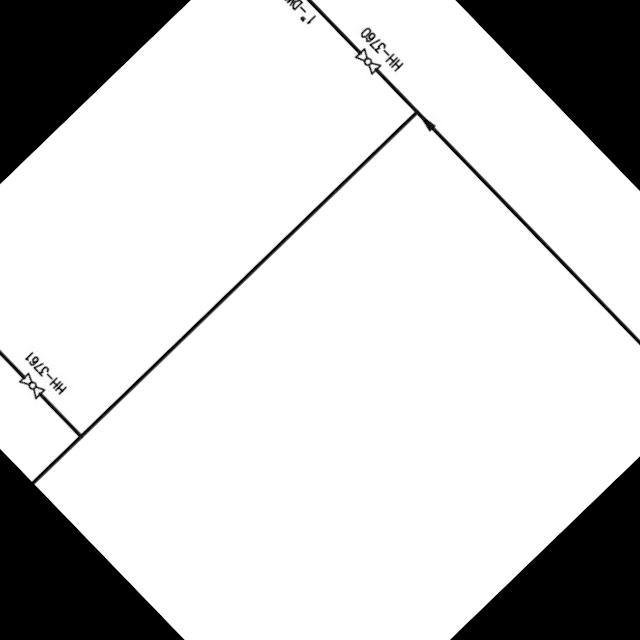BV2: (11, 368, 50, 408), (350, 44, 385, 79)
